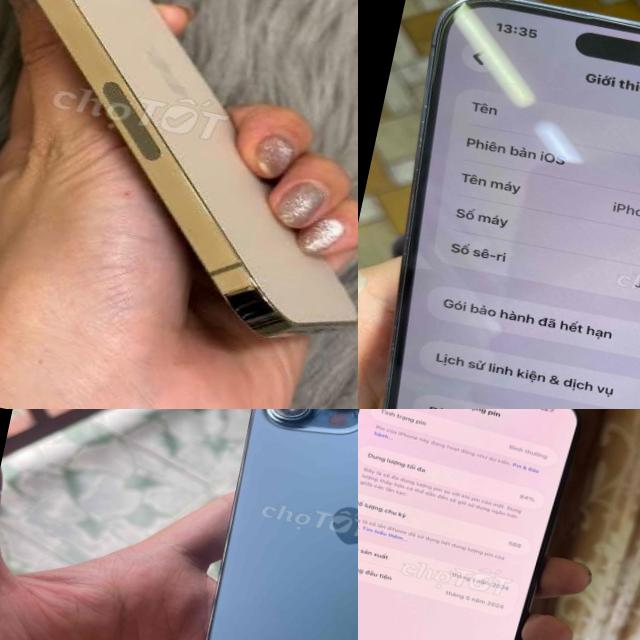gen_12_13: (0, 0, 358, 356), (170, 409, 358, 640)
gen_14: (358, 0, 640, 409)
gen_15: (358, 409, 603, 640)
